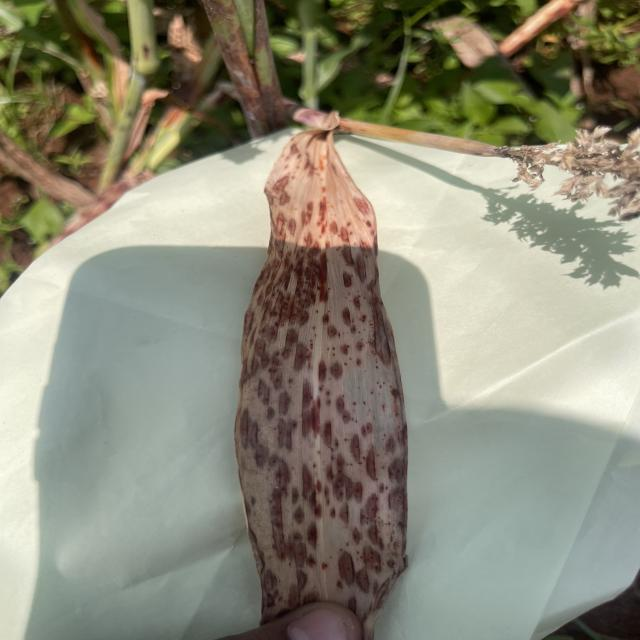millet_rust: (244, 124, 411, 605)
